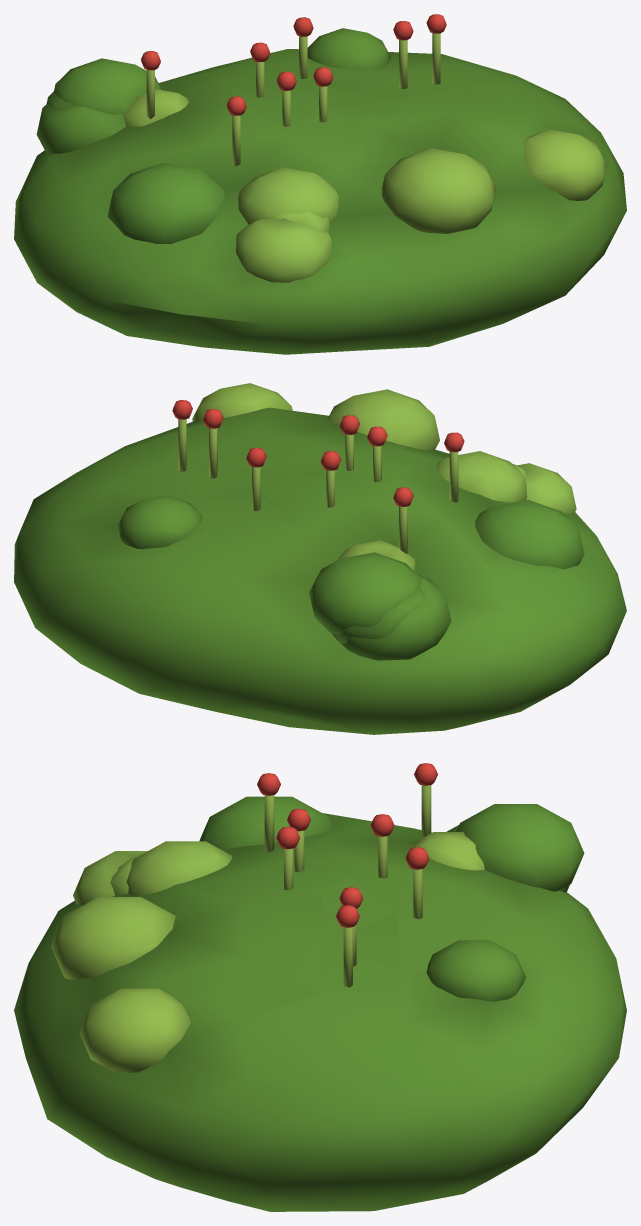
Rendered from glade_moss_mound.glb.
3 views of the same model, one above another, from view 1: azimuth 30°, elevation 25°; view 2: azimuth 150°, elevation 25°; view 3: azimuth 270°, elevation 25° (orthographic). The views are drawn at different scales.
Parts seen in each view (by area): view 1: glade_moss_mound; view 2: glade_moss_mound; view 3: glade_moss_mound.
Part boxes in pixels (left/top/right/bottom): glade_moss_mound: left=14, top=14, right=626, bottom=354; glade_moss_mound: left=14, top=383, right=626, bottom=734; glade_moss_mound: left=14, top=763, right=626, bottom=1211.
Bounding box in the file's own units: 6.74 × 3 × 5.66.
